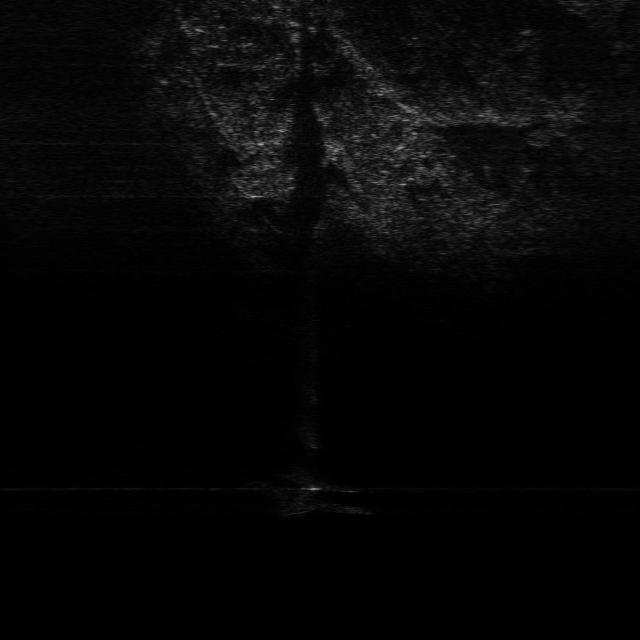plane: (250, 470, 374, 520)
